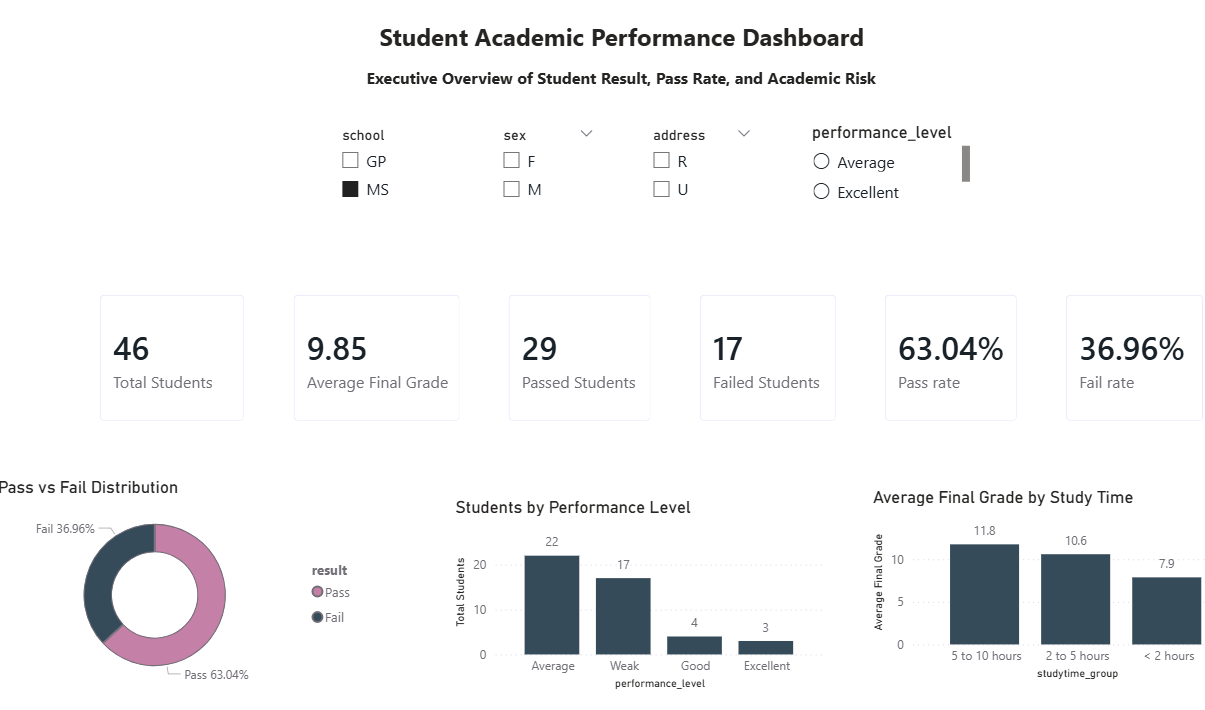

This screenshot's page, from the dashboard's own definition file:
{"tool":"powerbi","page":{"name":"Executive Overview","canvas":[1280,720],"ordinal":0},"visuals":[{"type":"cardVisual","fields":{"Data":["vw_student_analysis.Total Students"]},"box":[90,280,178.8,160],"z":0,"group":"g1"},{"type":"cardVisual","fields":{"Data":["vw_student_analysis.Average Final Grade"]},"box":[283.8,280,200,160],"z":1000,"group":"g1"},{"type":"cardVisual","fields":{"Data":["vw_student_analysis.Passed Student"]},"box":[498.8,280,176.2,160],"z":2000,"group":"g1"},{"type":"cardVisual","fields":{"Data":["vw_student_analysis.Failed Student"]},"box":[690,280,170,160],"z":3000,"group":"g1"},{"type":"cardVisual","fields":{"Data":["vw_student_analysis.Pass rate"]},"box":[875,280,166.2,160],"z":4000,"group":"g1"},{"type":"cardVisual","fields":{"Data":["vw_student_analysis.Fail rate"]},"box":[1056.2,280,171.2,160],"z":5000,"group":"g1"},{"type":"textbox","box":[214.7,0,827.6,82],"z":6000},{"type":"textbox","box":[161.7,63.9,933.8,35],"z":7000},{"type":"donutChart","title":"Pass vs Fail Distribution","fields":{"Category":["vw_student_analysis.result"],"Y":["vw_student_analysis.Total Students"]},"box":[0,478.8,378.8,217.5],"z":8000},{"type":"columnChart","title":"Students by Performance Level","fields":{"Category":["vw_student_analysis.performance_level"],"Y":["vw_student_analysis.Total Students"]},"box":[457.5,498.8,378.8,197.5],"z":9000},{"type":"columnChart","title":"Average Final Grade by Study Time","fields":{"Category":["vw_student_analysis.studytime_group"],"Y":["vw_student_analysis.Average Final Grade"]},"box":[875,488.8,378.8,197.5],"z":10000},{"type":"slicer","fields":{"Values":["vw_student_analysis.school"]},"box":[336.2,123.8,115,95],"z":11000},{"type":"slicer","fields":{"Values":["vw_student_analysis.sex"]},"box":[497.5,123.8,115,95],"z":12000},{"type":"slicer","fields":{"Values":["vw_student_analysis.address"]},"box":[647.5,123.8,122.5,95],"z":13000},{"type":"listSlicer","fields":{"Values":["vw_student_analysis.performance_level"]},"box":[813.8,123.8,168.8,95],"z":14000},{"type":"group","id":"g1","title":"Groupe 1","box":[90,280,1137.5,160],"z":14001}]}

Visuals, with their boxes on the page's 1280x720 design canvas (x1, y1, x2, y2). These are canvas units, not pixel positions in the 1205x710 screenshot, which may show the page scaled, cropped or inside an application window:
cardVisual - vw_student_analysis.Total Students: {"left": 90, "top": 280, "right": 269, "bottom": 440}
cardVisual - vw_student_analysis.Average Final Grade: {"left": 284, "top": 280, "right": 484, "bottom": 440}
cardVisual - vw_student_analysis.Passed Student: {"left": 499, "top": 280, "right": 675, "bottom": 440}
cardVisual - vw_student_analysis.Failed Student: {"left": 690, "top": 280, "right": 860, "bottom": 440}
cardVisual - vw_student_analysis.Pass rate: {"left": 875, "top": 280, "right": 1041, "bottom": 440}
cardVisual - vw_student_analysis.Fail rate: {"left": 1056, "top": 280, "right": 1227, "bottom": 440}
textbox: {"left": 215, "top": 0, "right": 1042, "bottom": 82}
textbox: {"left": 162, "top": 64, "right": 1096, "bottom": 99}
"Pass vs Fail Distribution" donutChart: {"left": 0, "top": 479, "right": 379, "bottom": 696}
"Students by Performance Level" columnChart: {"left": 458, "top": 499, "right": 836, "bottom": 696}
"Average Final Grade by Study Time" columnChart: {"left": 875, "top": 489, "right": 1254, "bottom": 686}
slicer - vw_student_analysis.school: {"left": 336, "top": 124, "right": 451, "bottom": 219}
slicer - vw_student_analysis.sex: {"left": 498, "top": 124, "right": 612, "bottom": 219}
slicer - vw_student_analysis.address: {"left": 648, "top": 124, "right": 770, "bottom": 219}
listSlicer - vw_student_analysis.performance_level: {"left": 814, "top": 124, "right": 983, "bottom": 219}
"Groupe 1" group: {"left": 90, "top": 280, "right": 1228, "bottom": 440}
